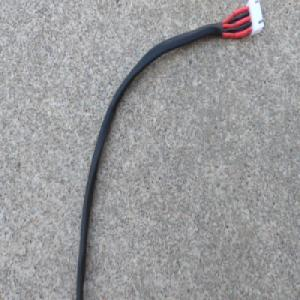Wire: (73, 0, 266, 300)
